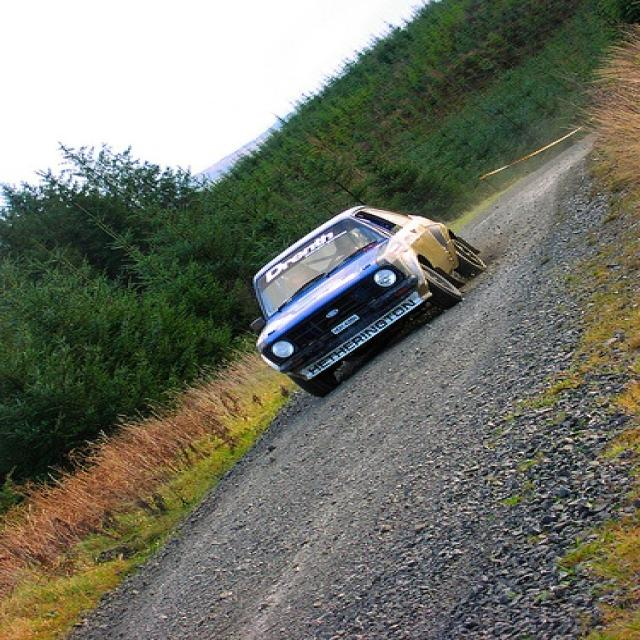car: (236, 203, 488, 397)
